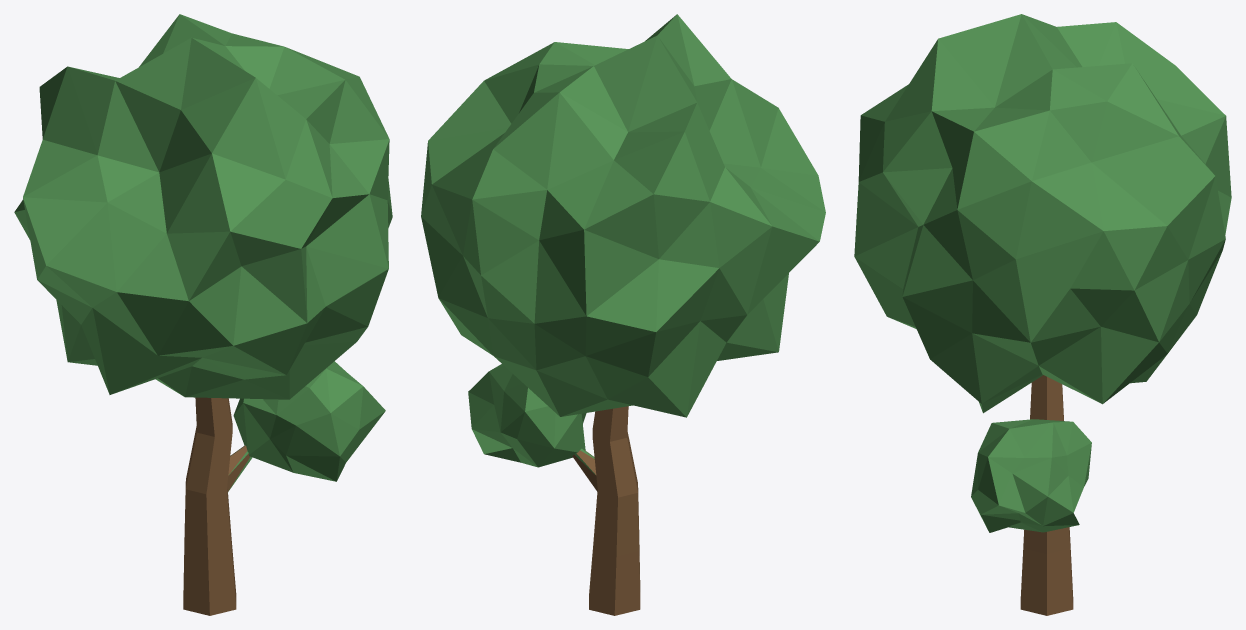
Rendered from tree3d-080.glb.
3 views of the same model, side by side, from view 1: azimuth 30°, elevation 25°; view 2: azimuth 150°, elevation 25°; view 3: azimuth 270°, elevation 25° (orthographic). The views are drawn at different scales.
Visible parts, largest first — view 1: tree3d-080; view 2: tree3d-080; view 3: tree3d-080.
Part boxes in pixels (box(x1,y1,x2,y2)): tree3d-080: box(14, 14, 392, 615); tree3d-080: box(421, 14, 825, 615); tree3d-080: box(854, 14, 1231, 615).
Size of the model in its own units: 0.6505 by 1 by 0.5955.
